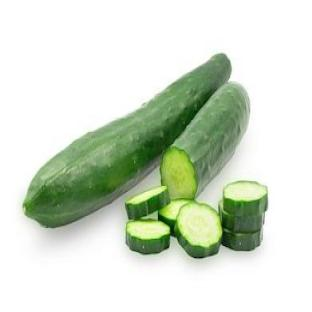Zucchini: (24, 54, 230, 226), (161, 83, 249, 199), (175, 201, 222, 257), (223, 182, 268, 215), (127, 220, 169, 254), (126, 186, 169, 219), (219, 201, 264, 232), (158, 200, 189, 235), (222, 228, 262, 250)
